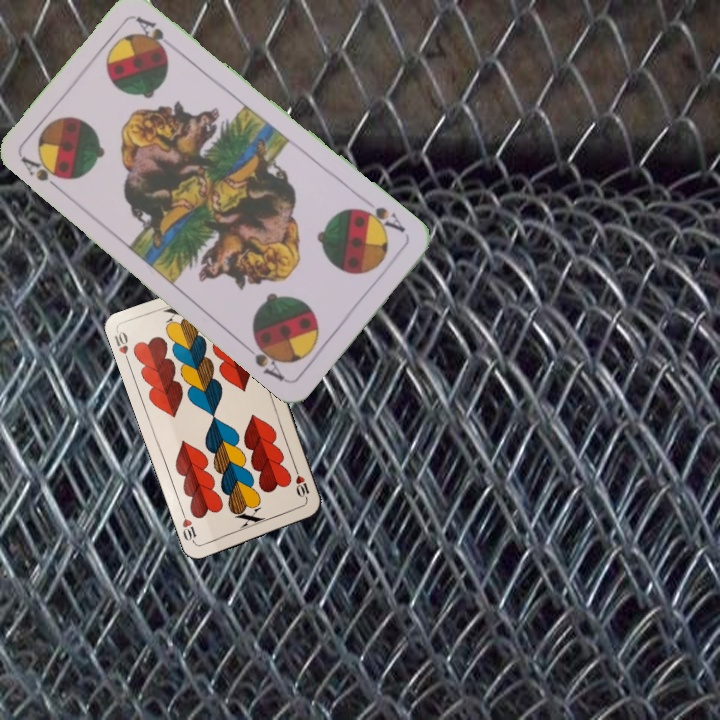H10: (110, 327, 132, 367), (291, 464, 312, 504)
SA: (17, 152, 68, 196), (354, 202, 409, 237)
